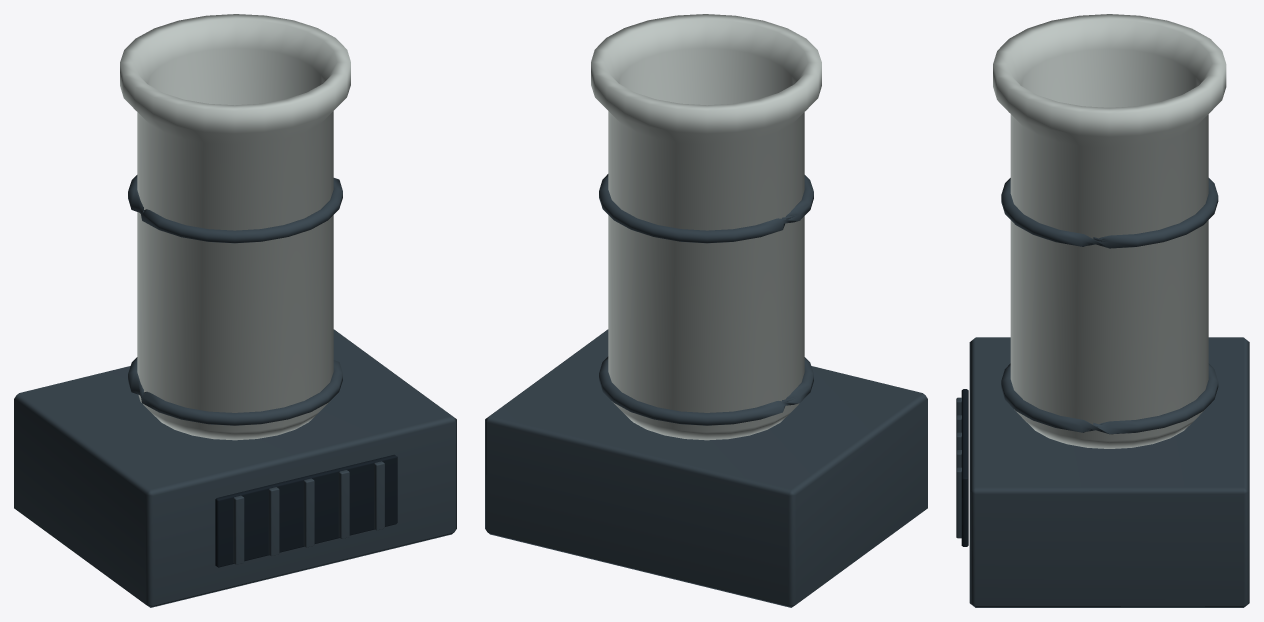
The model's file is S081_smoke_stack_rig_rebuilt.glb.
3 renders of one model, left to right at view 1: azimuth 30°, elevation 25°; view 2: azimuth 150°, elevation 25°; view 3: azimuth 270°, elevation 25°, orthographic.
Visible parts, largest first — view 1: silver, shell, dark; view 2: shell, silver; view 3: silver, shell, dark.
Boxes of the visible parts, bbox=[...] form: silver: bbox=[120, 14, 350, 440]; shell: bbox=[14, 175, 456, 607]; dark: bbox=[215, 454, 397, 567]; shell: bbox=[485, 174, 927, 607]; silver: bbox=[591, 14, 821, 440]; silver: bbox=[993, 14, 1226, 448]; shell: bbox=[956, 178, 1249, 607]; dark: bbox=[961, 389, 968, 546].
Bounding box in the file's own units: 1.28 × 1.81 × 1.03.
